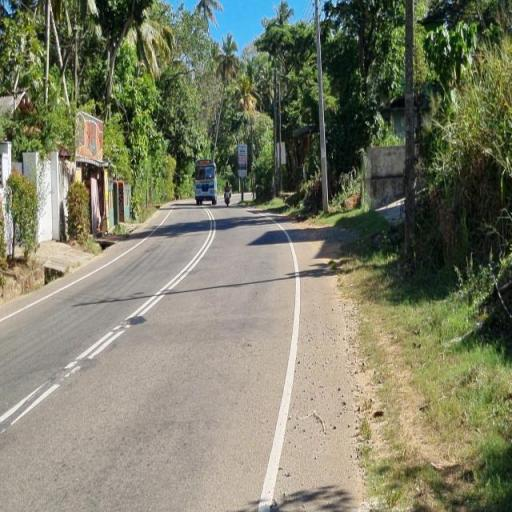double_white_line: (62, 208, 213, 378)
